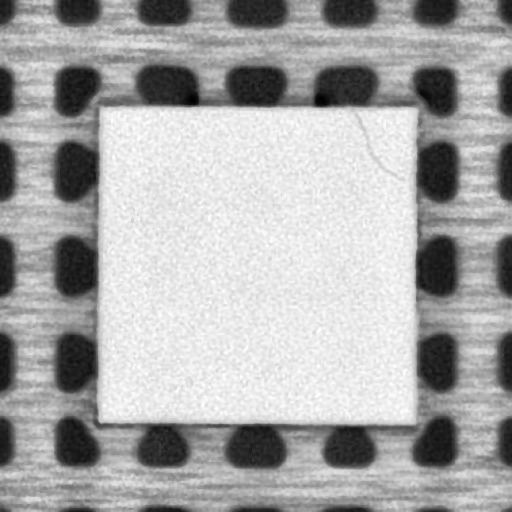DIE_CRACK: (351, 105, 402, 184)
